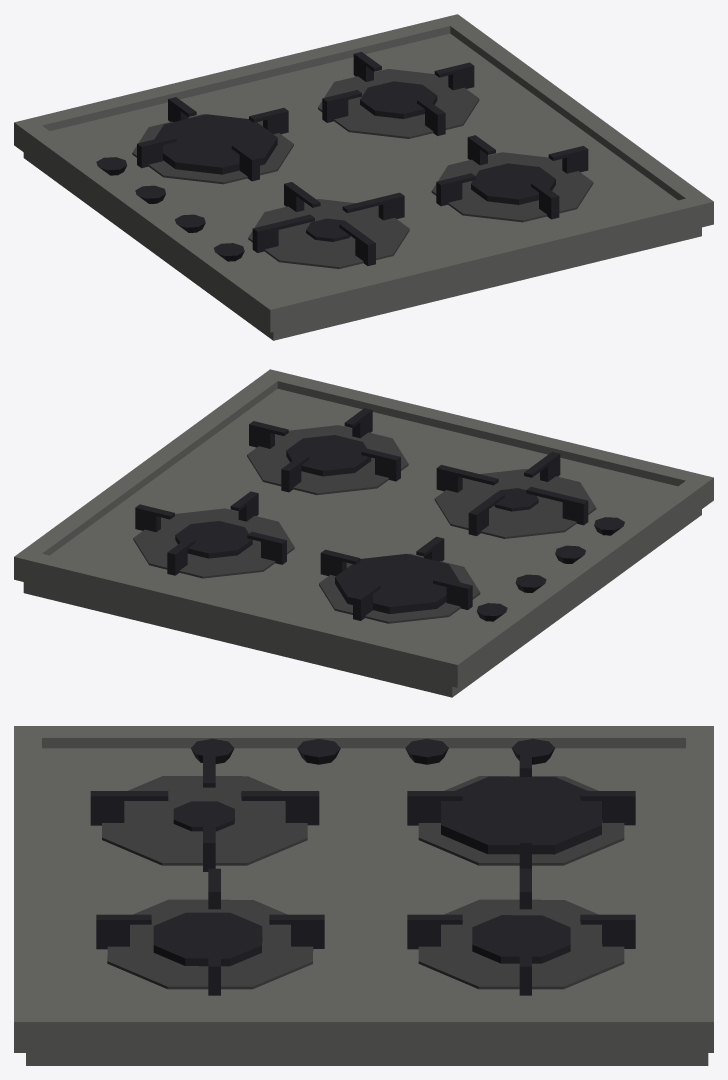
File: ocak.fbx
The picture shows the model from 3 angles, top to bottom: view 1: azimuth 30°, elevation 25°; view 2: azimuth 150°, elevation 25°; view 3: azimuth 270°, elevation 25°; orthographic projection. The views are drawn at different scales.
Parts seen in each view (by area): view 1: Cube.022; view 2: Cube.022; view 3: Cube.022.
Boxes of the visible parts, left/top/right/bottom form: Cube.022: left=14, top=14, right=713, bottom=340; Cube.022: left=14, top=369, right=713, bottom=697; Cube.022: left=14, top=726, right=713, bottom=1065.
Bounding box in the file's own units: 164 × 17.6 × 164.
Materials: 1 (1 with a texture image).
